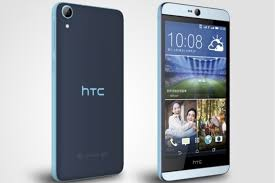htc: (152, 1, 232, 180), (48, 1, 125, 181)
